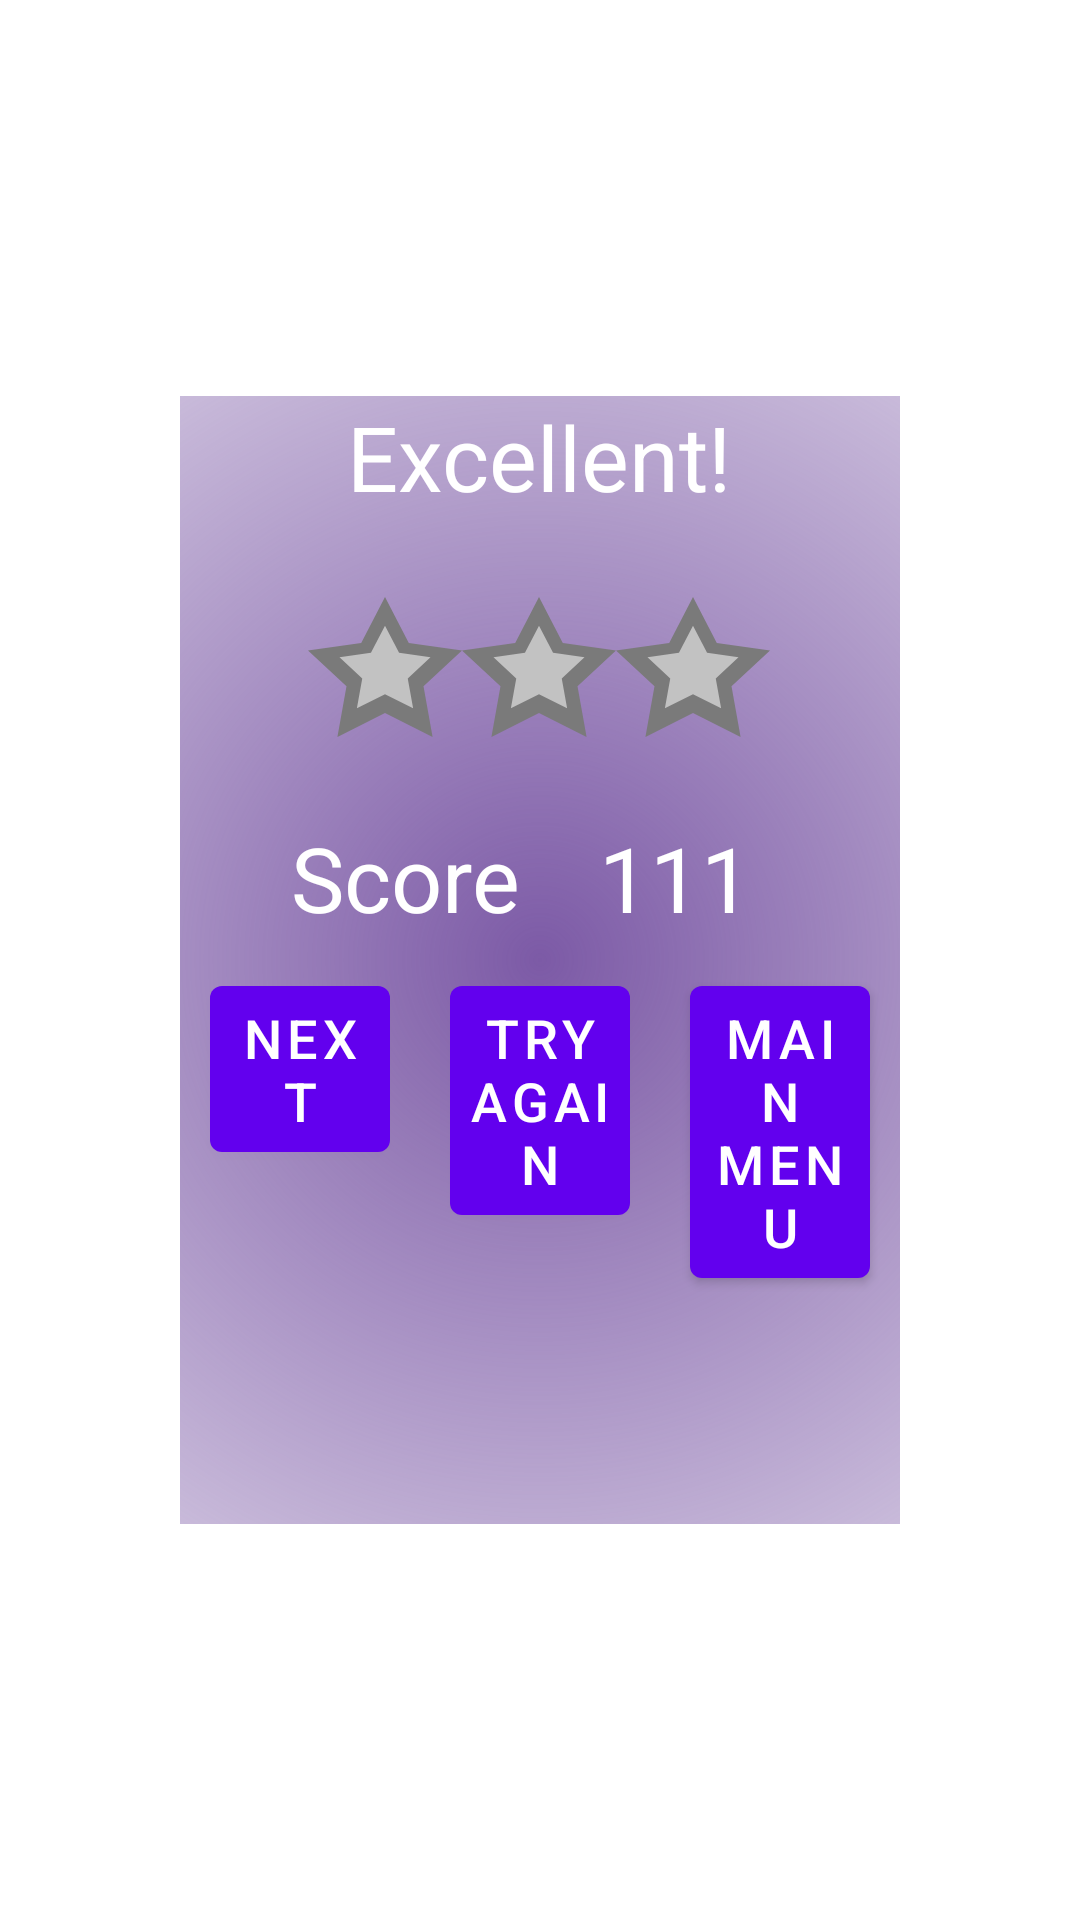

Named icons in this screenshot (1080w x 1920h) and their centers, (x=x, y=y):
star: (x=539, y=667), (x=693, y=667), (x=385, y=707)
